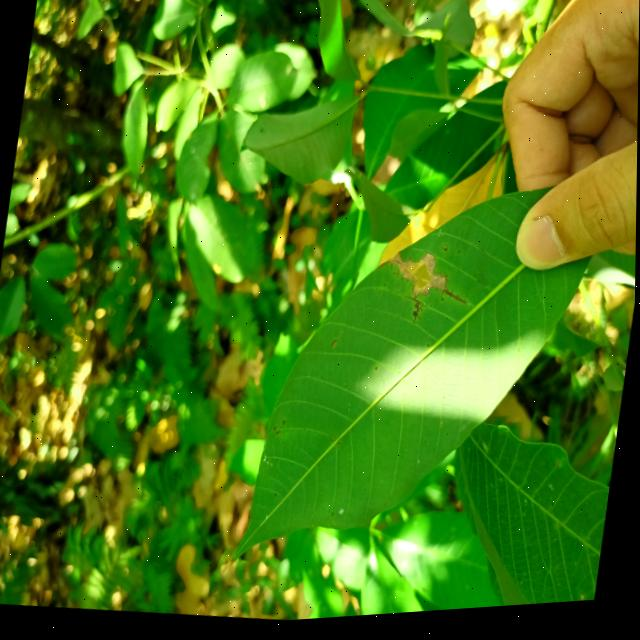Corynespora: (402, 298, 428, 330), (441, 290, 470, 310), (378, 263, 395, 276)
Leaf-Blight: (382, 252, 450, 306)
